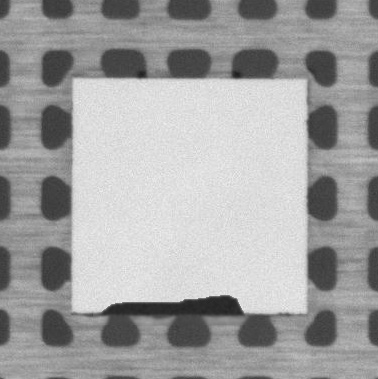DIE_BROKEN: (98, 292, 249, 317)
